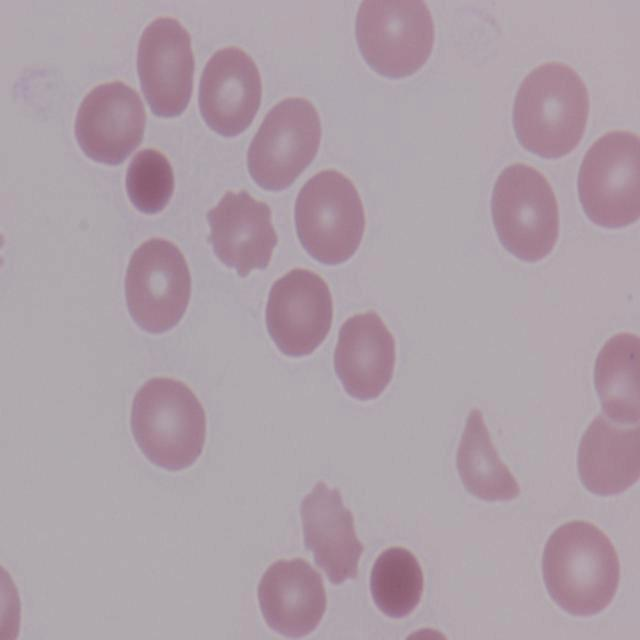RBC: (540, 517, 624, 621), (506, 59, 590, 162), (292, 166, 371, 272), (125, 373, 208, 473), (242, 93, 322, 194), (488, 162, 563, 267), (121, 235, 192, 338), (132, 12, 196, 124), (574, 129, 640, 235), (352, 0, 436, 83), (261, 264, 332, 362), (196, 46, 268, 142), (72, 80, 148, 168), (252, 555, 328, 640), (204, 191, 278, 278), (332, 310, 398, 406), (575, 414, 640, 503), (586, 329, 640, 428), (1, 543, 21, 640)
Spherocyte: (365, 541, 425, 620), (124, 148, 177, 216)
